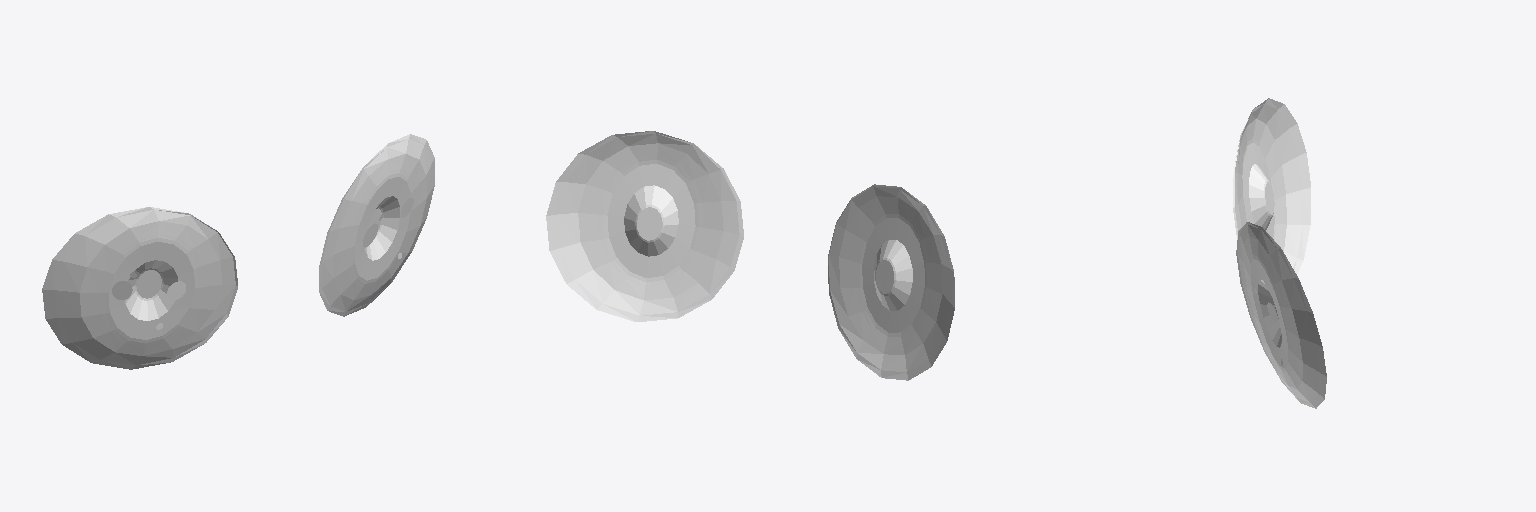
The model's file is eyes.obj.
3 views of the same model, side by side, from view 1: azimuth 30°, elevation 25°; view 2: azimuth 150°, elevation 25°; view 3: azimuth 270°, elevation 25° (orthographic).
Visible parts, largest first — view 1: mesh_eyes_Mesh; view 2: mesh_eyes_Mesh; view 3: mesh_eyes_Mesh.
Boxes of the visible parts, <box> form: mesh_eyes_Mesh: <box>42,134,434,369</box>; mesh_eyes_Mesh: <box>546,131,954,380</box>; mesh_eyes_Mesh: <box>1233,98,1326,408</box>.
Size of the model in its own units: 0.1375 by 0.0583 by 0.028.